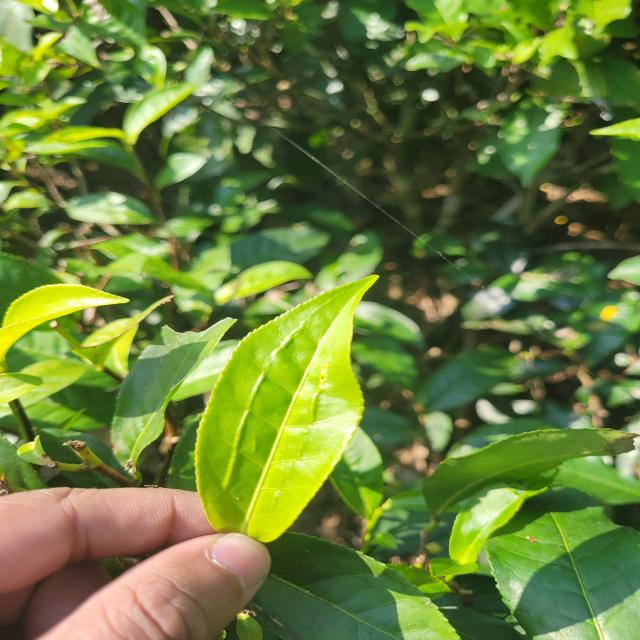Catagory A(1-2 days): (189, 267, 380, 569)
